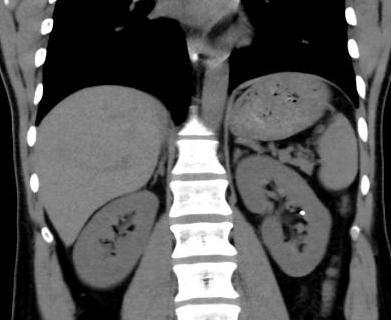Tas_Var: (298, 208, 307, 216)
